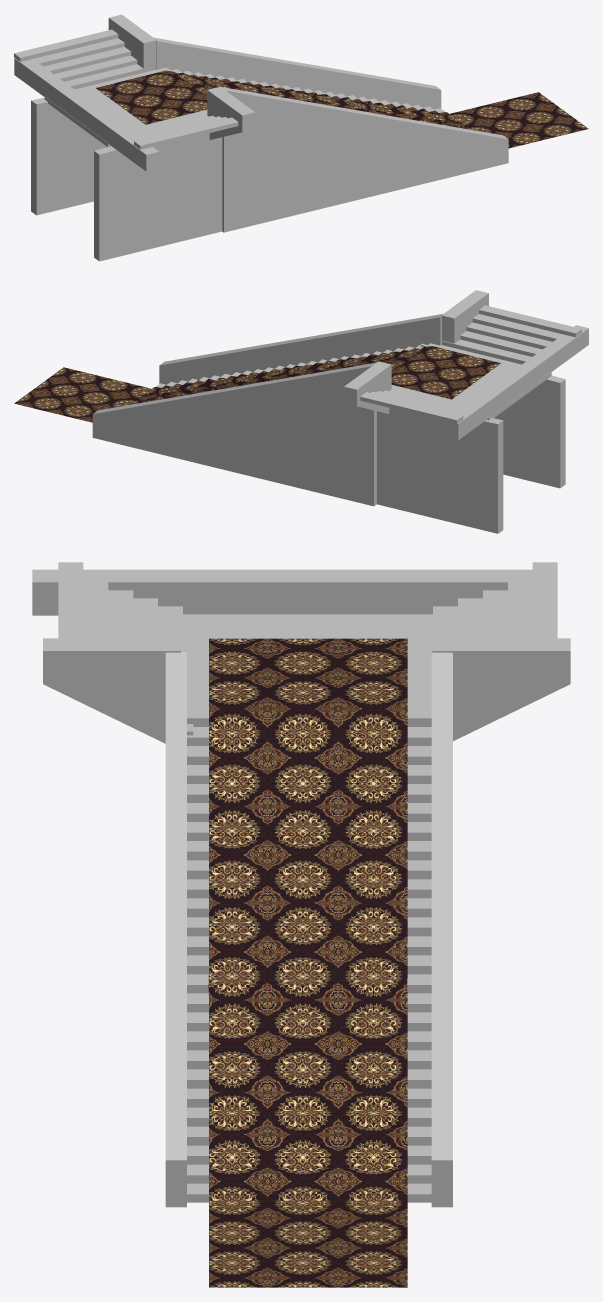
The model's file is stairs.fbx.
The picture shows the model from 3 angles, top to bottom: view 1: azimuth 30°, elevation 25°; view 2: azimuth 150°, elevation 25°; view 3: azimuth 270°, elevation 25°; orthographic projection. The views are drawn at different scales.
Parts seen in each view (by area): view 1: polySurface514; view 2: polySurface514; view 3: polySurface514.
Part boxes in pixels (left/top/right/bottom): polySurface514: left=14, top=14, right=588, bottom=261; polySurface514: left=14, top=290, right=588, bottom=533; polySurface514: left=32, top=562, right=570, bottom=1287.
Size of the model in its own units: 1823 by 499 by 863.
